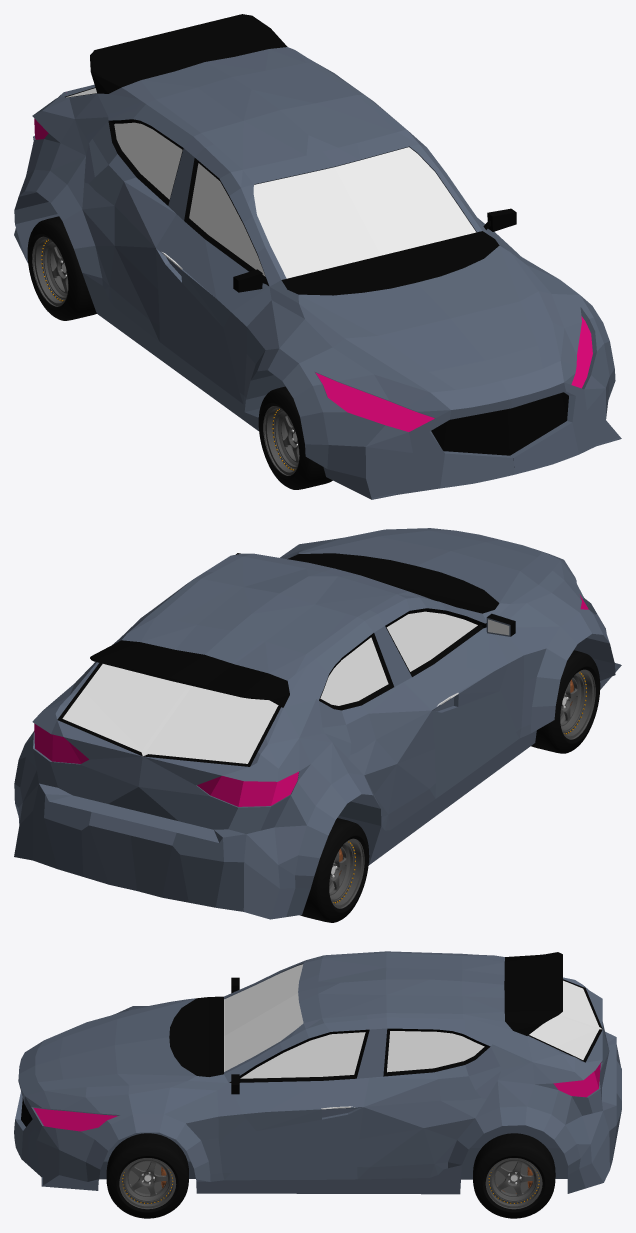
File: mazda3-hatchback-2019.glb
3 renders of one model, top to bottom at view 1: azimuth 30°, elevation 25°; view 2: azimuth 150°, elevation 25°; view 3: azimuth 270°, elevation 25°, orthographic. The views are drawn at different scales.
Visible parts, largest first — view 1: Mazda3Hatchback, CG_wheel_6, CG_wheel_7, CG_wheel_2, CG_wheel_3; view 2: Mazda3Hatchback, CG_wheel_6, CG_wheel_7, CG_wheel_2, CG_wheel_3, Mirror001; view 3: Mazda3Hatchback, CG_wheel_5, CG_wheel_4, CG_wheel_1, CG_wheel_0.
Boxes of the visible parts, x1,y1,x2,y2 form: Mazda3Hatchback: (14,14,621,499); CG_wheel_6: (27,216,96,320); CG_wheel_7: (258,386,332,489); CG_wheel_2: (32,236,68,306); CG_wheel_3: (263,406,299,475); Mazda3Hatchback: (14,528,621,919); CG_wheel_6: (300,818,369,922); CG_wheel_7: (531,650,600,753); CG_wheel_2: (329,838,364,908); CG_wheel_3: (560,669,595,739); Mirror001: (482,613,515,636); Mazda3Hatchback: (14,951,621,1194); CG_wheel_5: (473,1133,555,1218); CG_wheel_4: (106,1133,188,1218); CG_wheel_1: (485,1158,542,1209); CG_wheel_0: (119,1158,176,1209).
Size of the model in its own units: 2.09 by 1.49 by 4.46.
